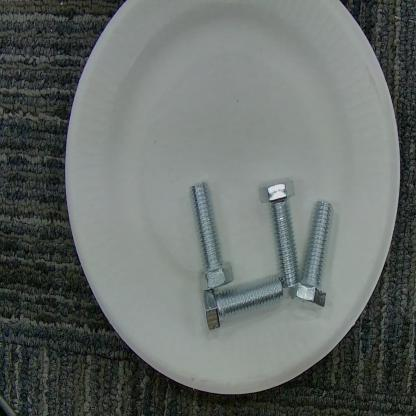FOD: (189, 178, 337, 333)
